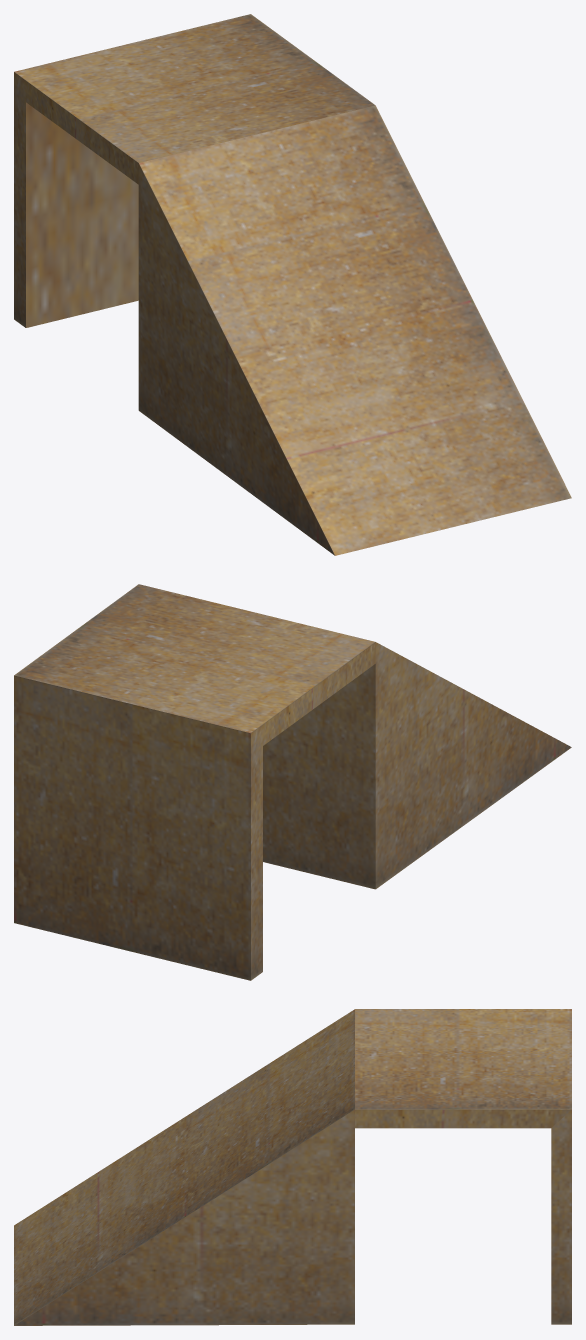
The model's file is ParkourRamp01.obj.
3 views of the same model, one above another, from view 1: azimuth 30°, elevation 25°; view 2: azimuth 150°, elevation 25°; view 3: azimuth 270°, elevation 25° (orthographic). The views are drawn at different scales.
Parts seen in each view (by area): view 1: ParkourRamp01; view 2: ParkourRamp01; view 3: ParkourRamp01.
Boxes of the visible parts, x1,y1,x2,y2 form: ParkourRamp01: (14,14,571,555); ParkourRamp01: (14,584,571,980); ParkourRamp01: (14,1009,571,1325).
Bounding box in the file's own units: 3 × 3.01 × 7.04.
